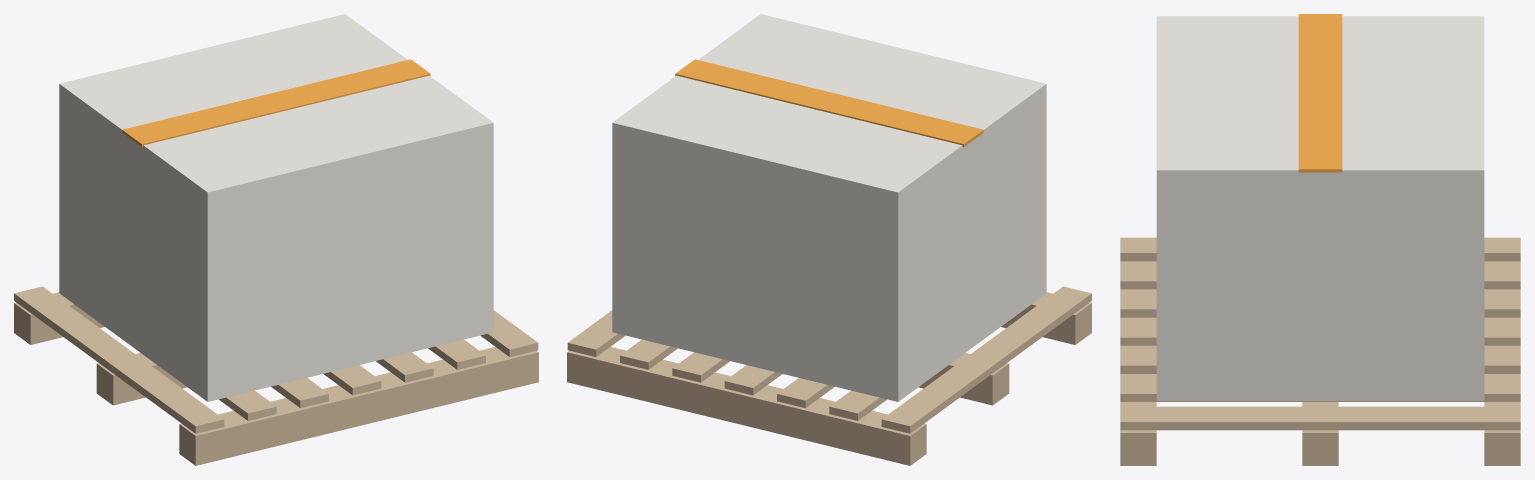
The model's file is SM_Prop_Pallet.glb.
3 views of the same model, side by side, from view 1: azimuth 30°, elevation 25°; view 2: azimuth 150°, elevation 25°; view 3: azimuth 270°, elevation 25° (orthographic). The views are drawn at different scales.
Parts seen in each view (by area): view 1: SM_Prop_Pallet; view 2: SM_Prop_Pallet; view 3: SM_Prop_Pallet.
Boxes of the visible parts, x1,y1,x2,y2 form: SM_Prop_Pallet: (14,14,538,465); SM_Prop_Pallet: (567,14,1091,465); SM_Prop_Pallet: (1120,14,1520,465).
Size of the model in its own units: 1.2 by 0.855 by 1.1.
